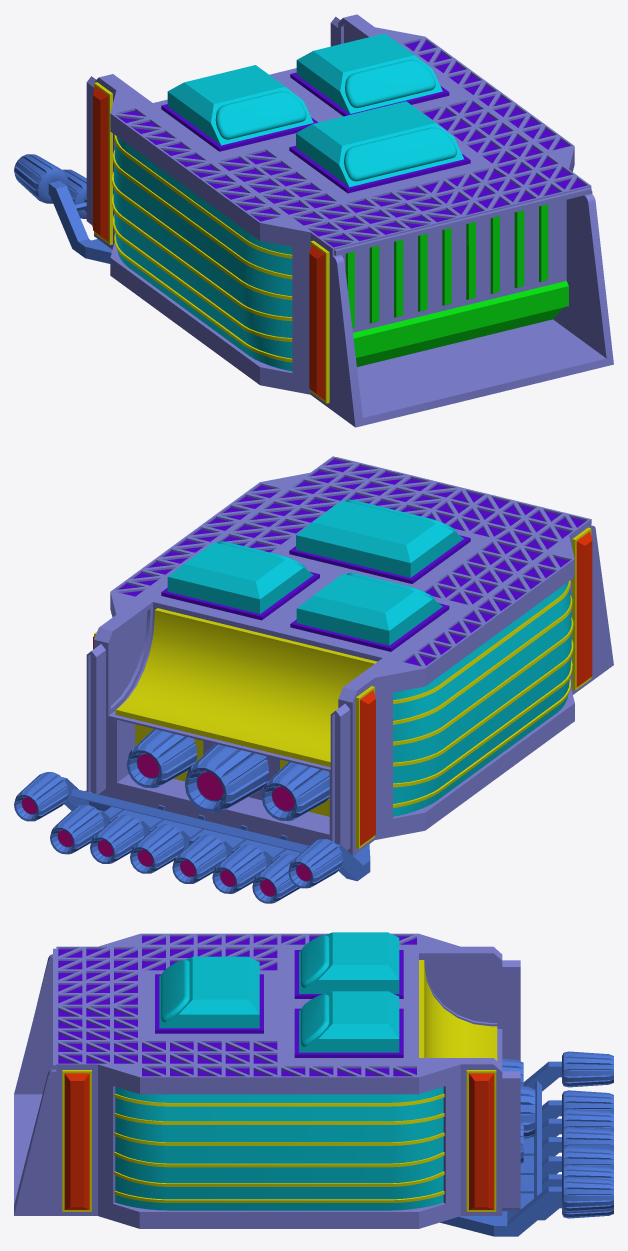
Rendered from TroopCarrier.fbx.
The picture shows the model from 3 angles, top to bottom: view 1: azimuth 30°, elevation 25°; view 2: azimuth 150°, elevation 25°; view 3: azimuth 270°, elevation 25°; orthographic projection. The views are drawn at different scales.
Parts seen in each view (by area): view 1: Cube.001; view 2: Cube.001; view 3: Cube.001.
Part boxes in pixels (x1,y1,x2,y2): Cube.001: (14,14,613,427); Cube.001: (14,456,613,903); Cube.001: (14,932,613,1236).
Size of the model in its own units: 625 by 383 by 1076.
